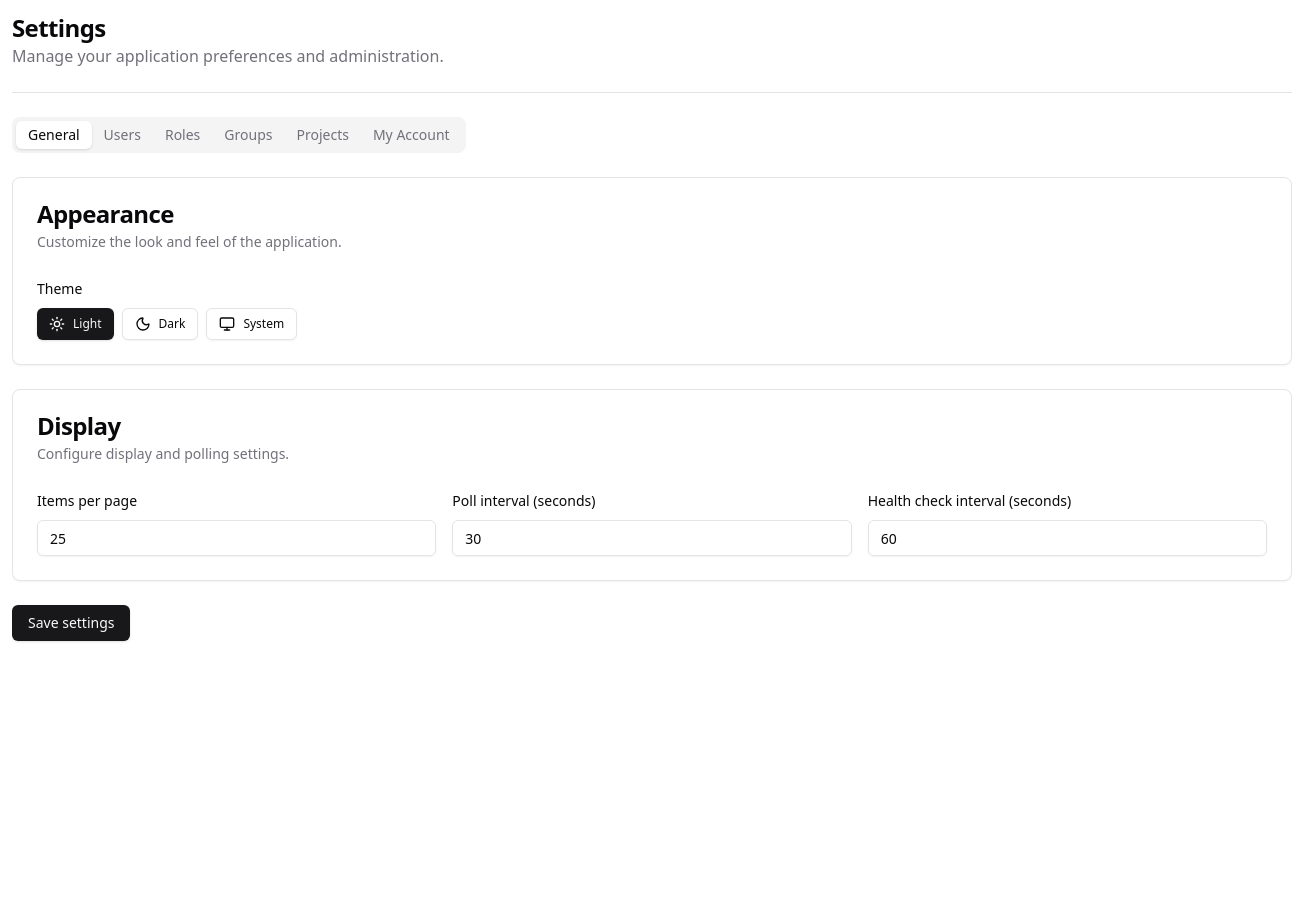
it: SettingsPage › shows "No users found." in Users tab when list is empty
Click the tab "Users" at (122, 135), box [92,121,153,149]
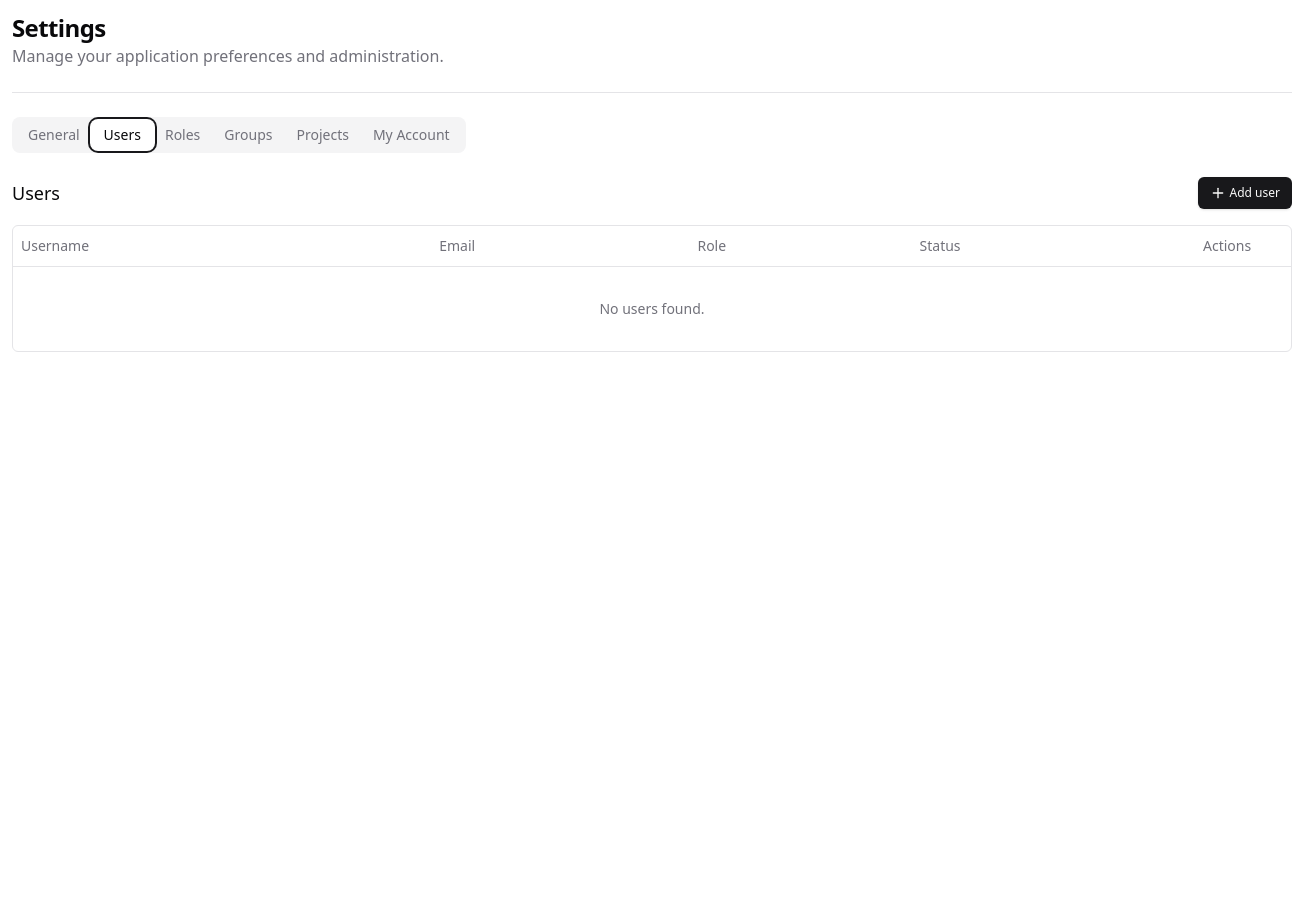
expect the text "No users found." is shown: met, box [13,266,1291,350]
